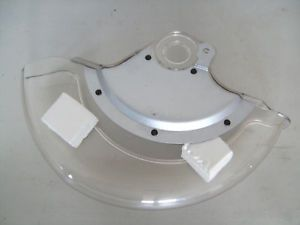hole: (151, 129, 159, 137), (223, 119, 231, 127), (96, 88, 103, 96), (145, 55, 153, 62), (190, 69, 197, 75)
